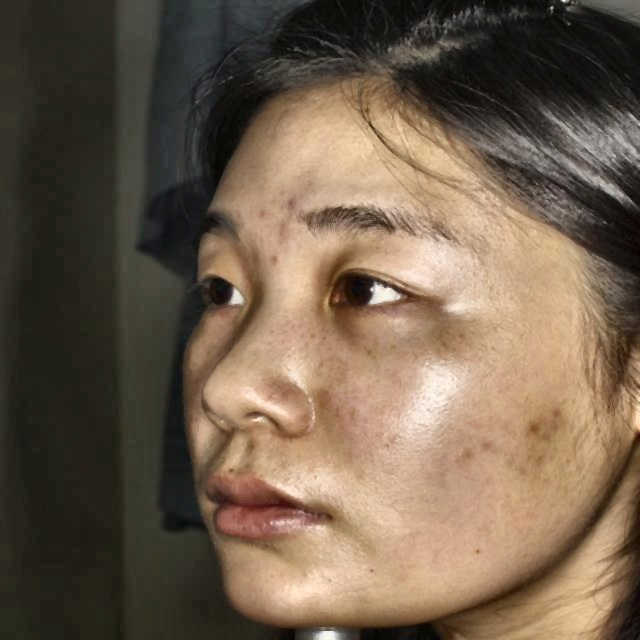comedone: (511, 412, 543, 447), (540, 387, 564, 427), (275, 219, 295, 245), (284, 191, 305, 215), (256, 204, 273, 231)
